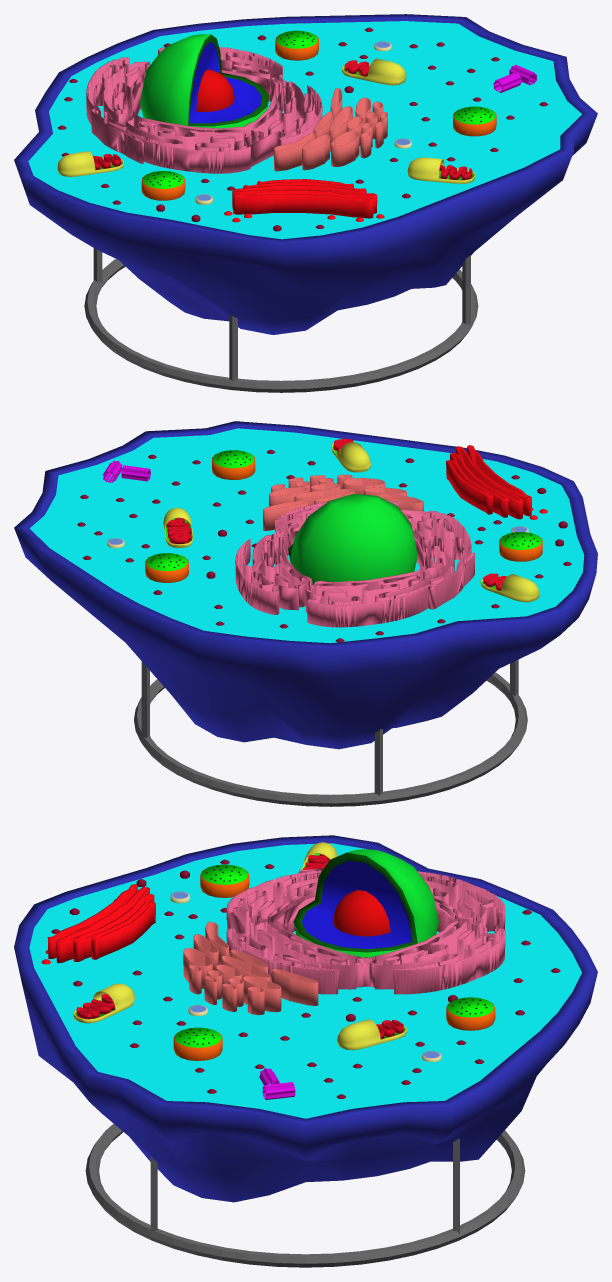
File: Celula.fbx
The picture shows the model from 3 angles, top to bottom: view 1: azimuth 30°, elevation 25°; view 2: azimuth 150°, elevation 25°; view 3: azimuth 270°, elevation 25°; orthographic projection. The views are drawn at different scales.
Visible parts, largest first — view 1: Citoplasma, Parede Celular, Retículo Endoplasmático, Nucleo, Suporte, Retículo Endoplasmático Liso, Complexo de Golgi, Cylinder.002, Ribossomos, Cylinder.001, Cylinder.003, Citoplasma.004 (+3 smaller); view 2: Citoplasma, Parede Celular, Retículo Endoplasmático, Nucleo, Suporte, Retículo Endoplasmático Liso, Complexo de Golgi, Ribossomos, Cylinder.001, Sphere.001, Citoplasma.004, Sphere.002 (+3 smaller); view 3: Citoplasma, Parede Celular, Retículo Endoplasmático, Nucleo, Suporte, Retículo Endoplasmático Liso, Complexo de Golgi, Ribossomos, Cylinder.003, Cylinder.002, Sphere.001, Sphere.002 (+3 smaller).
Part boxes in pixels (x1,y1,x2,y2): Citoplasma: [28, 21, 582, 239]; Parede Celular: [14, 14, 597, 334]; Retículo Endoplasmático: [86, 47, 322, 173]; Nucleo: [140, 34, 269, 128]; Suporte: [84, 248, 478, 392]; Retículo Endoplasmático Liso: [274, 88, 387, 171]; Complexo de Golgi: [224, 179, 384, 222]; Cylinder.002: [407, 157, 475, 183]; Ribossomos: [58, 27, 548, 231]; Cylinder.001: [57, 151, 123, 176]; Cylinder.003: [341, 58, 406, 85]; Citoplasma.004: [141, 171, 185, 200]; Citoplasma: [30, 428, 584, 643]; Parede Celular: [14, 421, 597, 749]; Retículo Endoplasmático: [235, 499, 474, 627]; Nucleo: [288, 494, 417, 584]; Suporte: [134, 659, 527, 806]; Retículo Endoplasmático Liso: [263, 474, 423, 530]; Complexo de Golgi: [446, 445, 547, 519]; Ribossomos: [77, 449, 571, 642]; Cylinder.001: [480, 573, 539, 602]; Sphere.001: [145, 553, 188, 582]; Citoplasma.004: [499, 532, 542, 561]; Sphere.002: [212, 450, 255, 479]; Citoplasma: [29, 843, 581, 1118]; Parede Celular: [14, 835, 597, 1202]; Retículo Endoplasmático: [226, 868, 505, 994]; Nucleo: [293, 849, 438, 957]; Suporte: [85, 1123, 525, 1267]; Retículo Endoplasmático Liso: [183, 922, 318, 1015]; Complexo de Golgi: [41, 884, 155, 964]; Ribossomos: [51, 859, 560, 1098]; Cylinder.003: [337, 1019, 406, 1049]; Cylinder.002: [73, 983, 134, 1023]; Sphere.001: [446, 997, 495, 1030]; Sphere.002: [173, 1027, 222, 1060].
Size of the model in its own units: 260 by 122 by 221.
